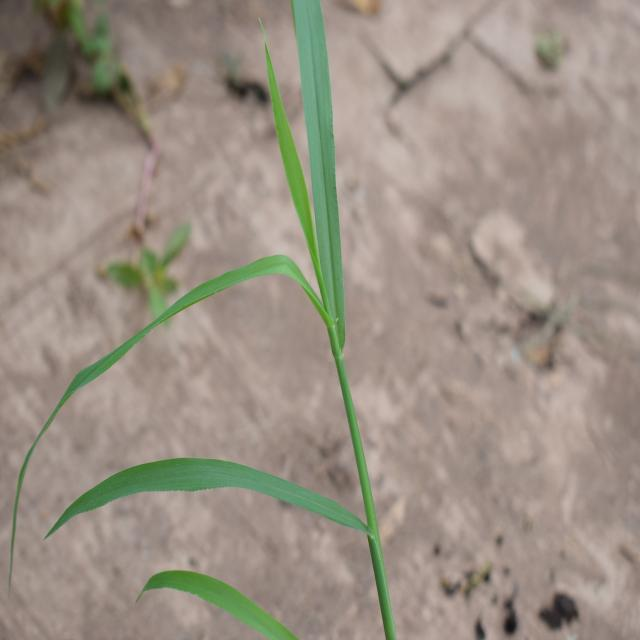crabgrass: (51, 12, 413, 571)
